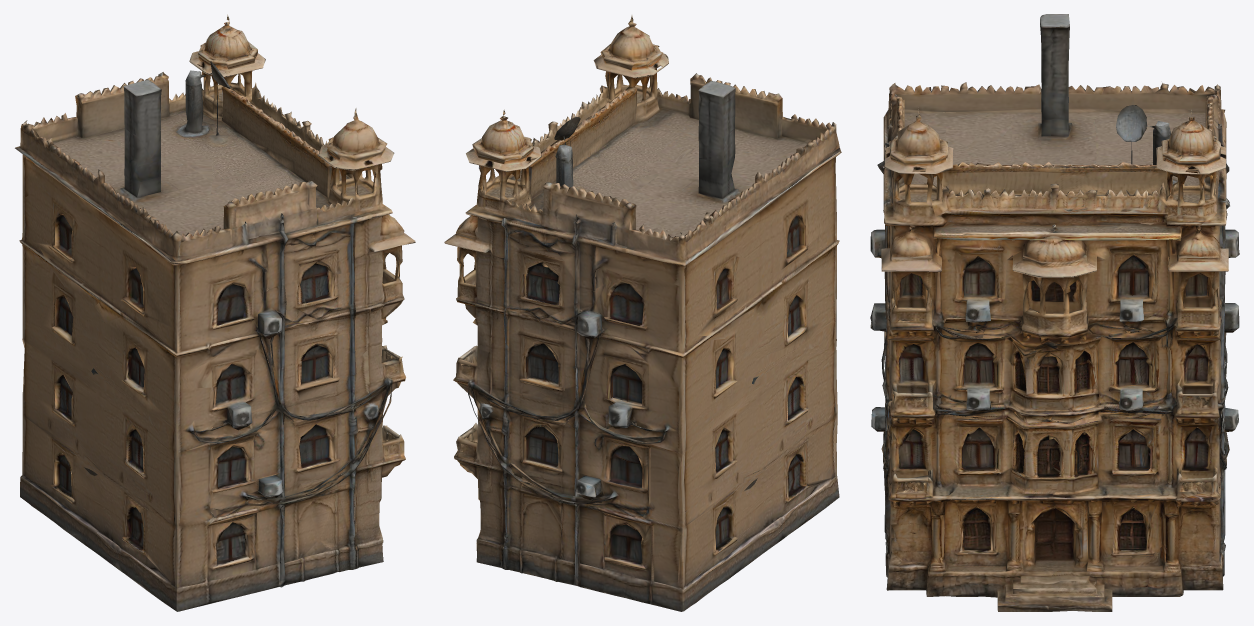
File: palace.glb
The picture shows the model from 3 angles, left to right: view 1: azimuth 30°, elevation 25°; view 2: azimuth 150°, elevation 25°; view 3: azimuth 270°, elevation 25°; orthographic projection. The views are drawn at different scales.
Size of the model in its own units: 0.5643 by 0.9774 by 0.6731.
1 material, 1 textured.
